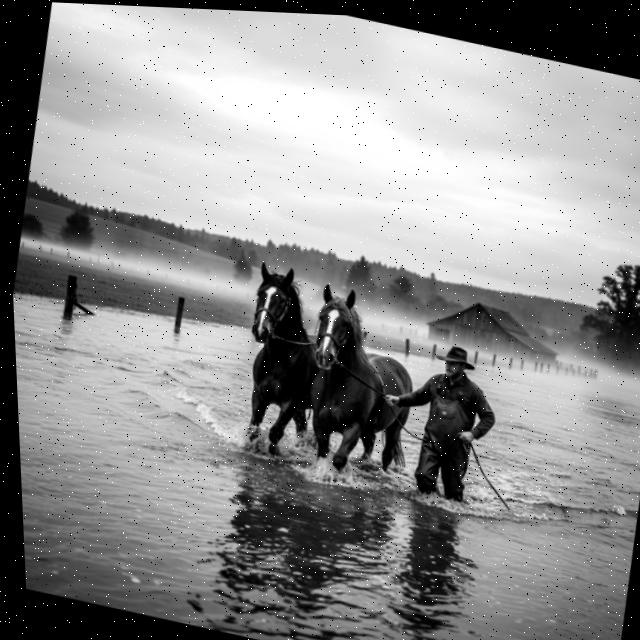civilian: (365, 325, 514, 513)
horse: (275, 269, 437, 490), (211, 256, 352, 476)
